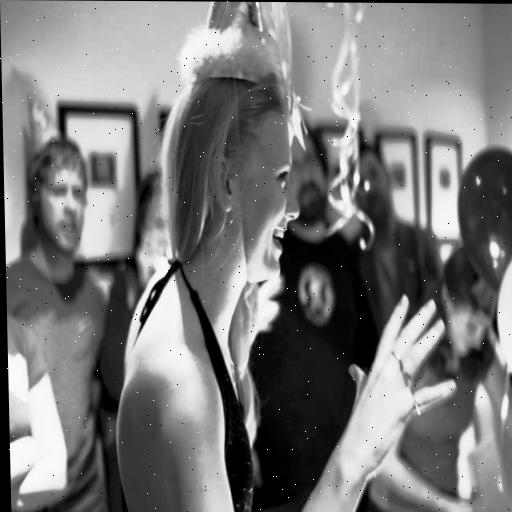balloon: (459, 148, 512, 292), (499, 257, 512, 388)
